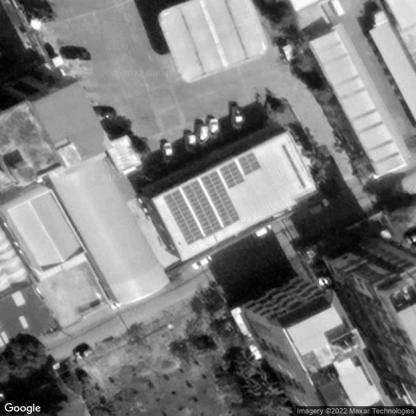solar-pv-panel: (161, 171, 242, 244), (219, 161, 247, 188), (236, 153, 262, 175)
